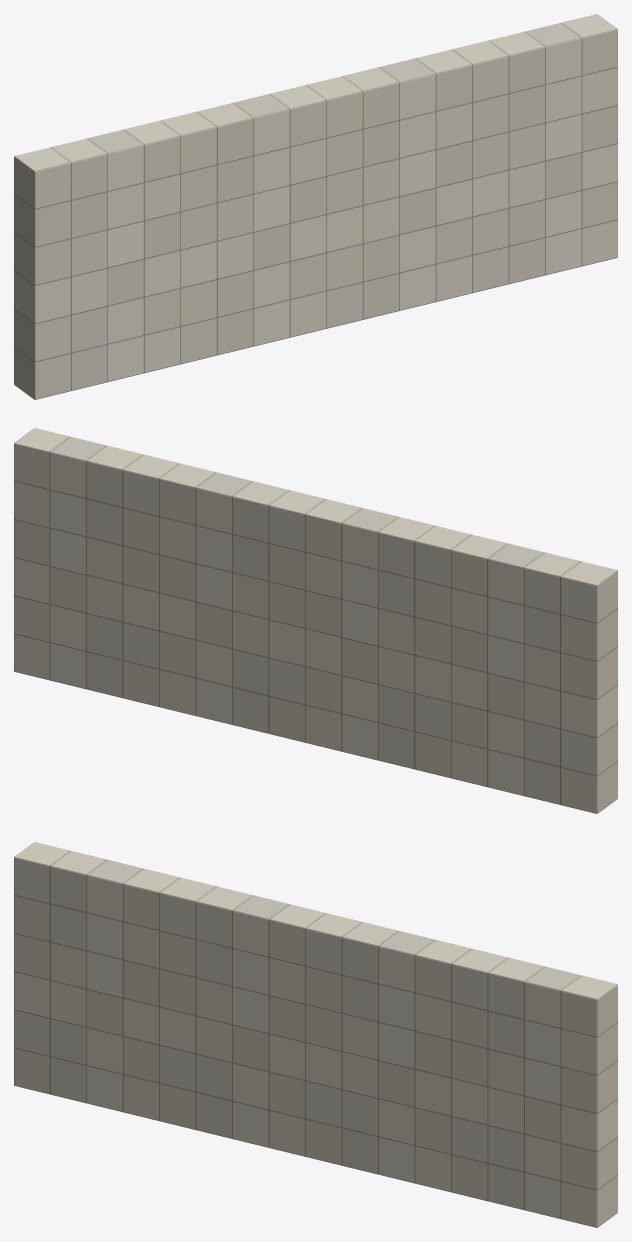
Rendered from MOD_21_PoolEdge_Straight.glb.
3 renders of one model, top to bottom at view 1: azimuth 30°, elevation 25°; view 2: azimuth 150°, elevation 25°; view 3: azimuth 330°, elevation 25°, orthographic.
Visible parts, largest first — view 1: MOD_21_PoolEdge_Straight_Export; view 2: MOD_21_PoolEdge_Straight_Export; view 3: MOD_21_PoolEdge_Straight_Export.
Boxes of the visible parts, x1,y1,x2,y2 form: MOD_21_PoolEdge_Straight_Export: (14, 14, 617, 399); MOD_21_PoolEdge_Straight_Export: (14, 428, 617, 813); MOD_21_PoolEdge_Straight_Export: (14, 842, 617, 1227).
Bounding box in the file's own units: 4 × 1.5 × 0.25.
Materials: 1 (1 with a texture image).
